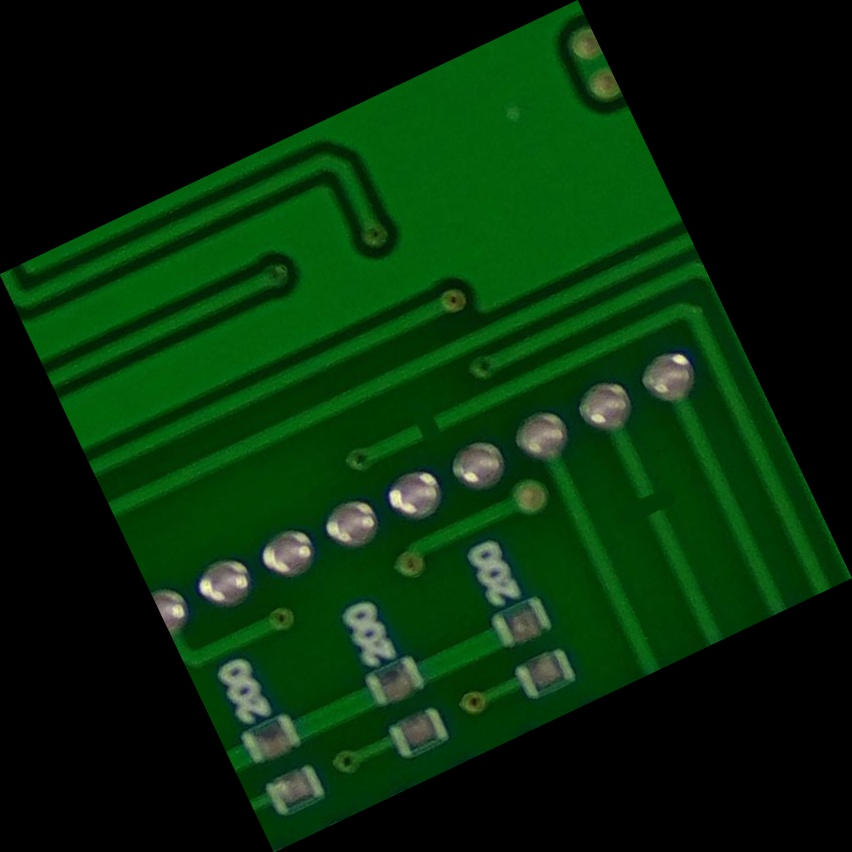open_circuit: (402, 401, 451, 451)
